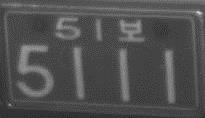1: (155, 48, 186, 105), (62, 46, 94, 100), (107, 47, 137, 101), (87, 17, 109, 41)
5: (15, 44, 55, 98), (54, 16, 80, 40)
보: (117, 18, 146, 42)
